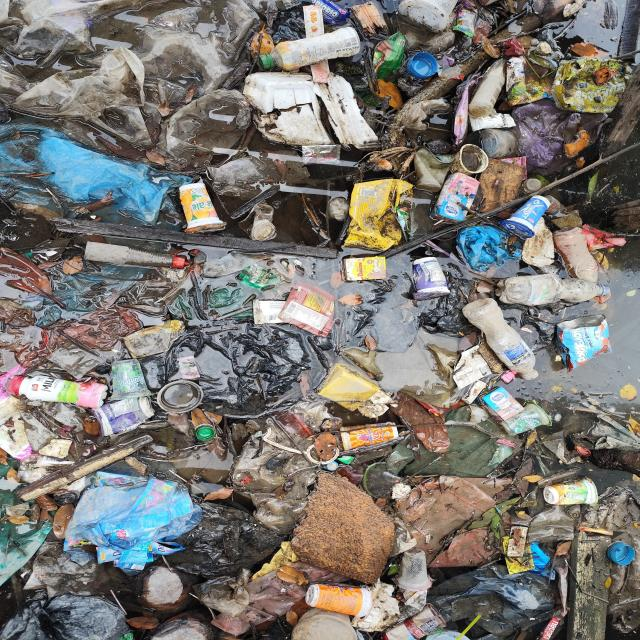Botol Plastik: (459, 300, 547, 382), (259, 27, 366, 73), (487, 274, 615, 310), (79, 241, 202, 274), (550, 227, 612, 288), (6, 374, 111, 410), (195, 427, 220, 442)
Bungkus Makanan: (552, 56, 632, 117), (552, 315, 615, 374), (313, 1, 351, 27), (301, 145, 344, 167), (453, 6, 482, 38)
Bungkus Minuman: (281, 282, 340, 339), (177, 183, 231, 236), (304, 581, 376, 617), (96, 398, 160, 433), (108, 360, 155, 405), (503, 196, 551, 240), (339, 421, 402, 453), (410, 257, 452, 301), (546, 477, 601, 510), (501, 404, 554, 438), (397, 550, 437, 595)
Kantong Plastik: (14, 10, 257, 159), (2, 124, 173, 224), (166, 324, 328, 413), (433, 562, 563, 636), (183, 501, 291, 577), (512, 103, 584, 168), (63, 308, 143, 353)
